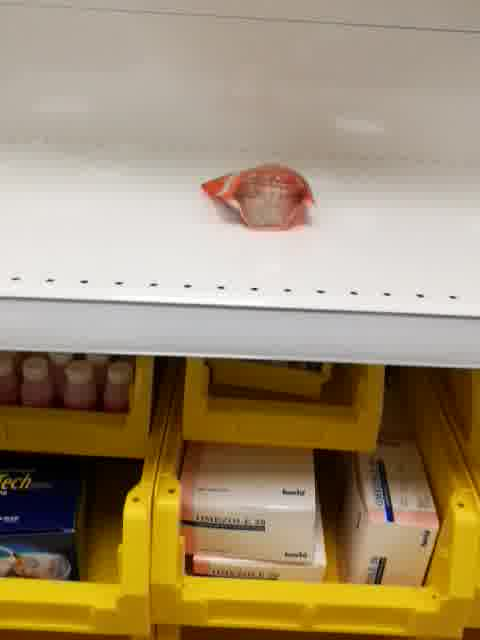whitechia: (201, 161, 315, 230)
